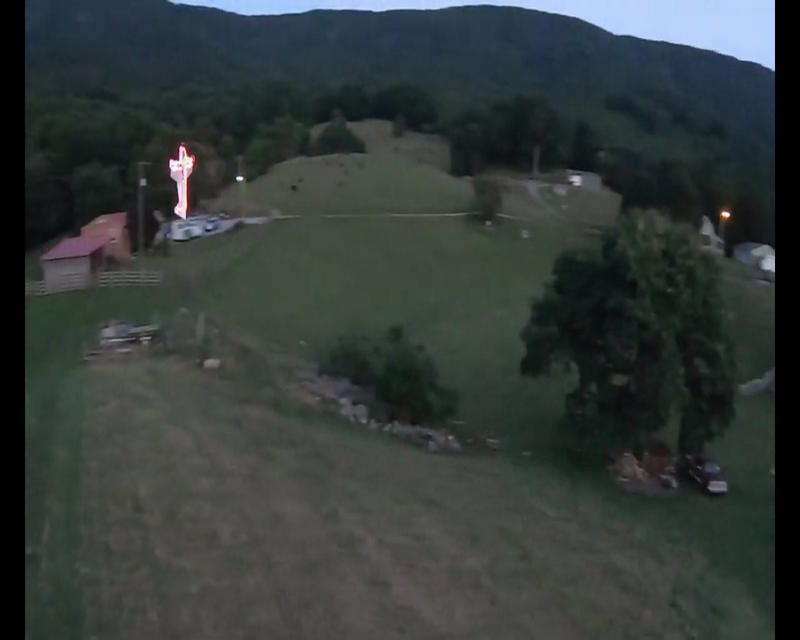UAV: (168, 141, 196, 219)
